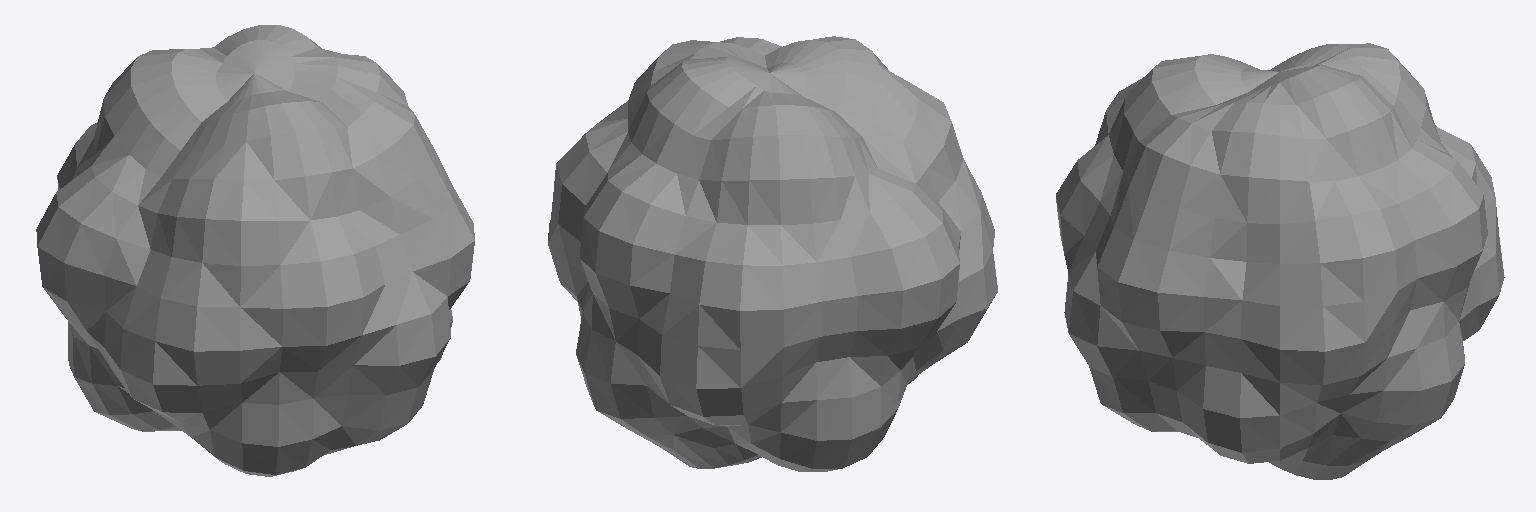
Rendered from crow_stone.obj.
The picture shows the model from 3 angles: view 1: azimuth 30°, elevation 25°; view 2: azimuth 150°, elevation 25°; view 3: azimuth 270°, elevation 25°; orthographic projection.
Visible parts, largest first — view 1: Sphere; view 2: Sphere; view 3: Sphere.
Boxes of the visible parts, x1=… form: Sphere: x1=36, y1=25, x2=474, y2=476; Sphere: x1=548, y1=36, x2=997, y2=471; Sphere: x1=1056, y1=43, x2=1504, y2=479.
Bounding box in the file's own units: 0.363 × 0.3513 × 0.3595.